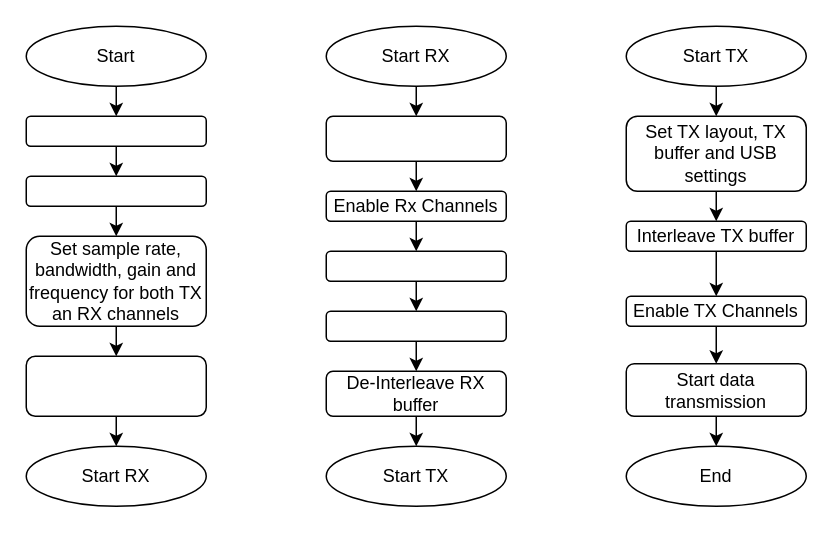
Image size: 833x533. Some labels were removed from this diagram. Each missing label, with the centre of its shape:
"Check if overrun" belongs at (x=415, y=325).
"Create device object" belongs at (x=115, y=130).
"Open device" belongs at (x=115, y=190).
"Set RX layout, buffer size and USB settings" belongs at (x=415, y=138).
"Start data capture" belongs at (x=415, y=265).
"Write parameters to the device" belongs at (x=115, y=385).
